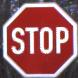Stop sign: (0, 0, 77, 77)
